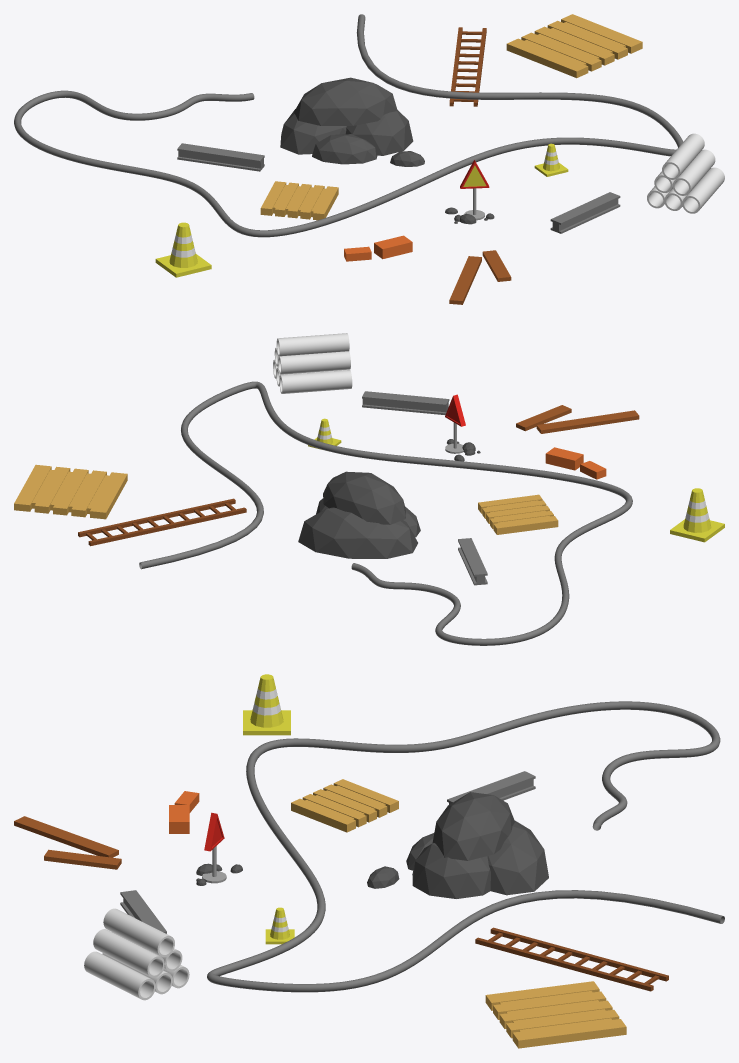
3 views of the same model, one above another, from view 1: azimuth 30°, elevation 25°; view 2: azimuth 150°, elevation 25°; view 3: azimuth 270°, elevation 25° (orthographic). The views are drawn at different scales.
Visible parts, largest first — view 1: NurbsPath.001, Cube.037, Icosphere.019, Cube.030, Icosphere.021, Icosphere.022, Cube.031, Cube.038, Icosphere.020, escalera.001, Cube.032, Cylinder.014 (+7 smaller); view 2: NurbsPath.001, Cube.037, Icosphere.020, Icosphere.019, Cube.030, escalera.001, Cube.032, Cube.038, Cylinder.011, Cylinder.012, Cylinder.014, Cube.035 (+4 smaller); view 3: NurbsPath.001, Cube.037, Icosphere.019, Cube.030, Icosphere.021, Icosphere.020, escalera.001, Cube.038, Cylinder.014, Cylinder.009, Cylinder.013, Cube.035 (+6 smaller).
Boxes of the visible parts, left/top/right/bottom form: NurbsPath.001: left=14, top=14, right=683, bottom=237; Cube.037: left=506, top=14, right=642, bottom=78; Icosphere.019: left=294, top=77, right=397, bottom=125; Cube.030: left=260, top=181, right=338, bottom=220; Icosphere.021: left=345, top=110, right=413, bottom=155; Icosphere.022: left=312, top=134, right=377, bottom=164; Cube.031: left=177, top=143, right=264, bottom=171; Cube.038: left=155, top=222, right=211, bottom=277; Icosphere.020: left=280, top=109, right=346, bottom=154; escalera.001: left=449, top=27, right=486, bottom=106; Cube.032: left=550, top=192, right=620, bottom=233; Cylinder.014: left=662, top=133, right=704, bottom=179; NurbsPath.001: left=139, top=381, right=632, bottom=645; Cube.037: left=14, top=464, right=127, bottom=519; Icosphere.020: left=298, top=507, right=417, bottom=558; Icosphere.019: left=323, top=471, right=405, bottom=524; Cube.030: left=478, top=494, right=558, bottom=534; escalera.001: left=78, top=498, right=246, bottom=546; Cube.032: left=362, top=391, right=449, bottom=414; Cube.038: left=670, top=488, right=724, bottom=542; Cylinder.011: left=279, top=370, right=352, bottom=393; Cylinder.012: left=278, top=351, right=350, bottom=374; Cylinder.014: left=276, top=333, right=349, bottom=356; Cube.035: left=536, top=410, right=639, bottom=433; NurbsPath.001: left=207, top=701, right=724, bottom=992; Cube.037: left=485, top=981, right=626, bottom=1048; Icosphere.019: left=432, top=792, right=514, bottom=860; Cube.030: left=291, top=779, right=398, bottom=832; Icosphere.021: left=412, top=843, right=490, bottom=898; Icosphere.020: left=487, top=820, right=548, bottom=895; escalera.001: left=475, top=927, right=668, bottom=991; Cube.038: left=243, top=674, right=290, bottom=735; Cylinder.014: left=103, top=908, right=174, bottom=957; Cylinder.009: left=84, top=951, right=155, bottom=1000; Cylinder.013: left=93, top=929, right=164, bottom=977; Cube.035: left=14, top=816, right=118, bottom=857.
Bounding box in the file's own units: 3798 × 381 × 3412.
